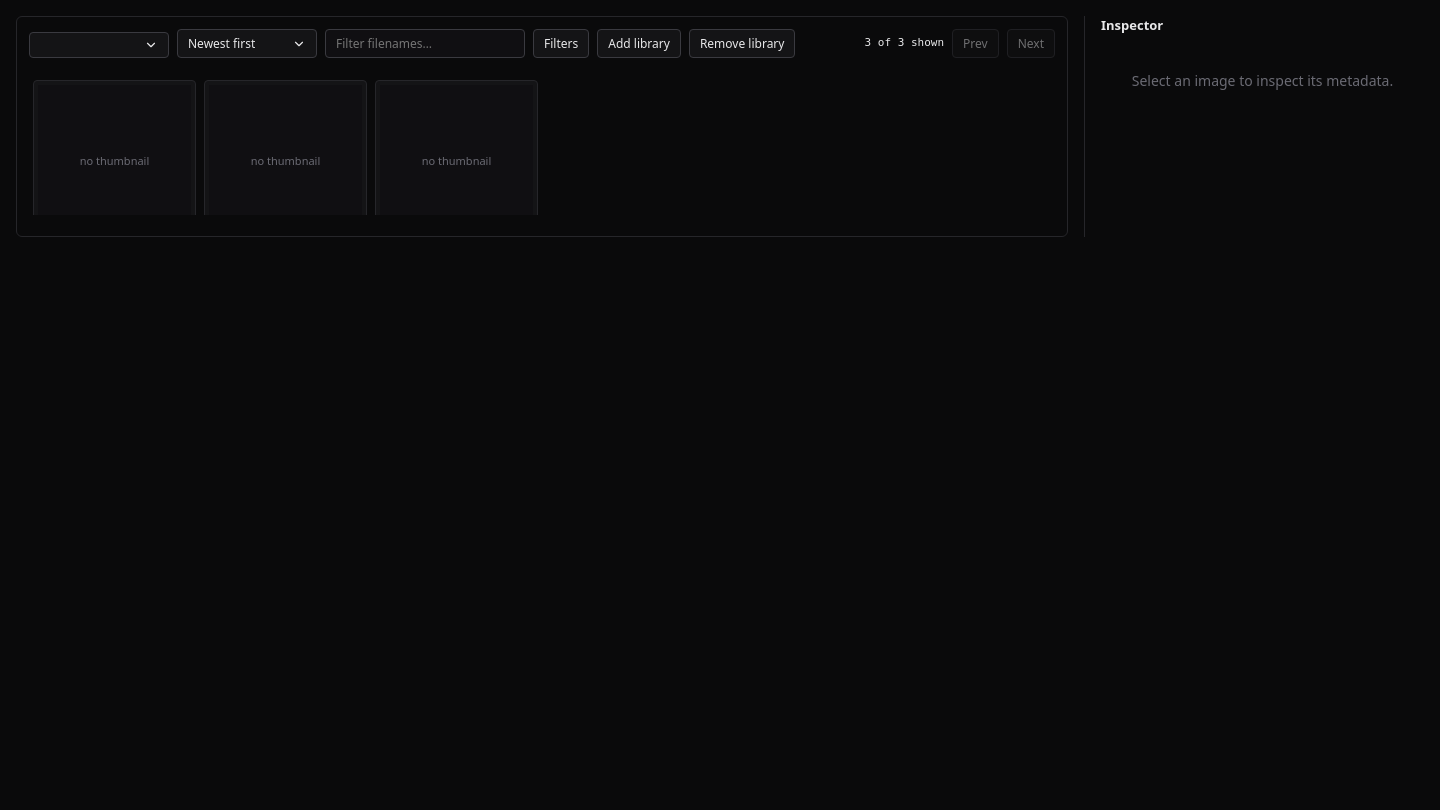
Scenario: viewer navigation across a loaded page › surfaces a rejected request through the existing error path
Check: the number of list items with class "cell" is 3, box [33, 80, 196, 215]; [204, 80, 367, 215]; [375, 80, 538, 215]
Step 1. Double-click the 1st list item with class "cell" → point(114, 152), box [33, 80, 196, 224]
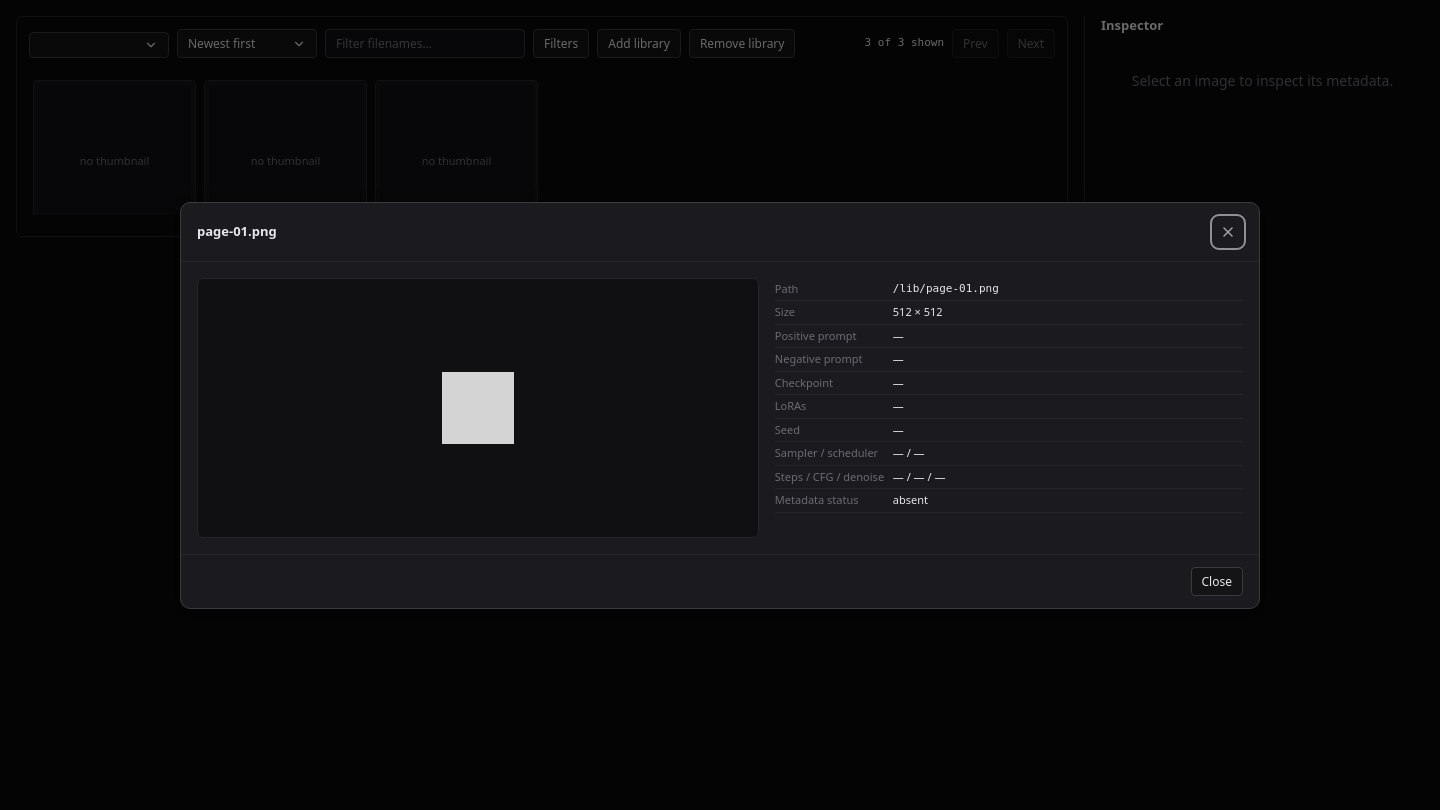
Check: the dialog is shown
Step 2. Press ArrowLeft in the dialog, box [180, 202, 1260, 608]
(page scrolled)
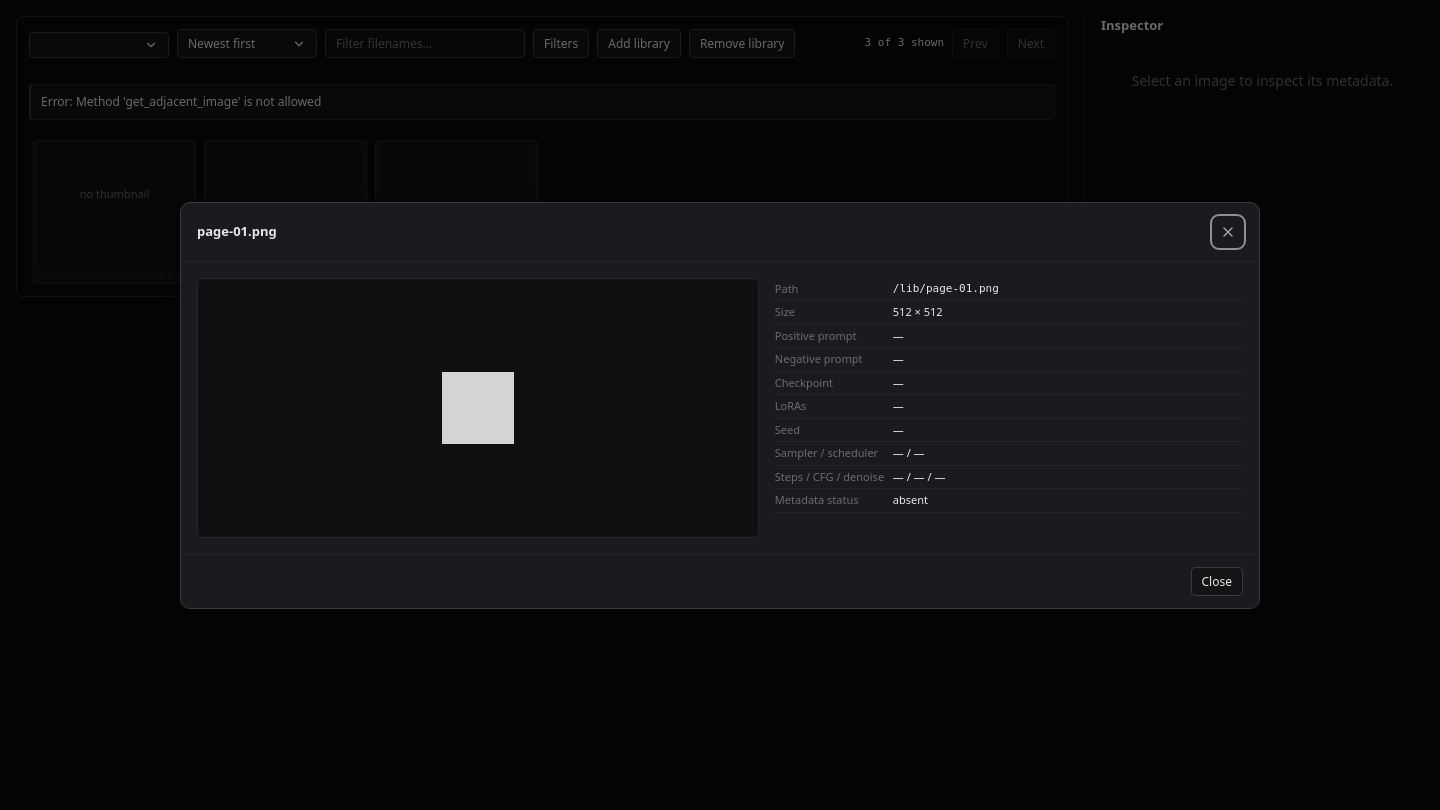
Check: the text "Error: Method 'get_adjacent_image' is not allowed" is shown, box [29, 84, 1055, 120]
